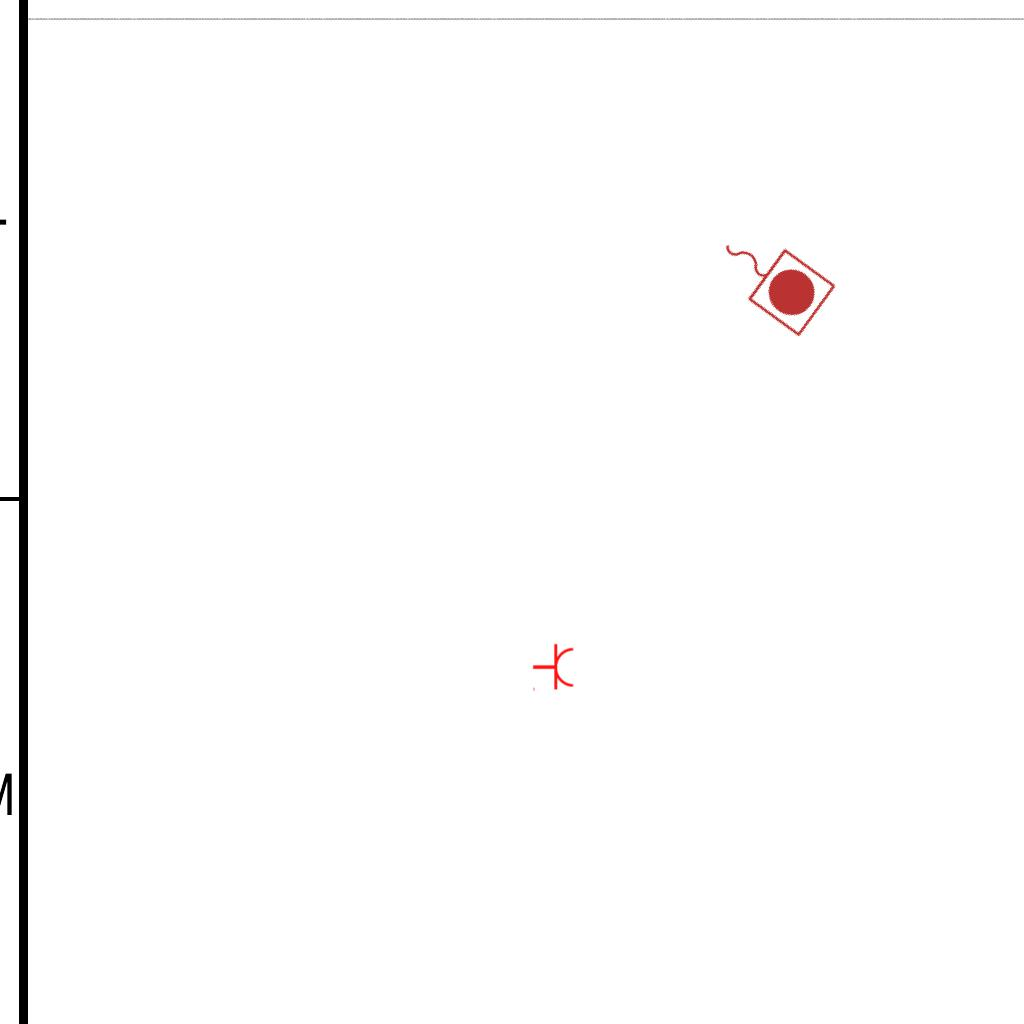Schukosteckdose_einfach: (532, 643, 575, 693)
Zugtaster: (701, 212, 843, 342)
